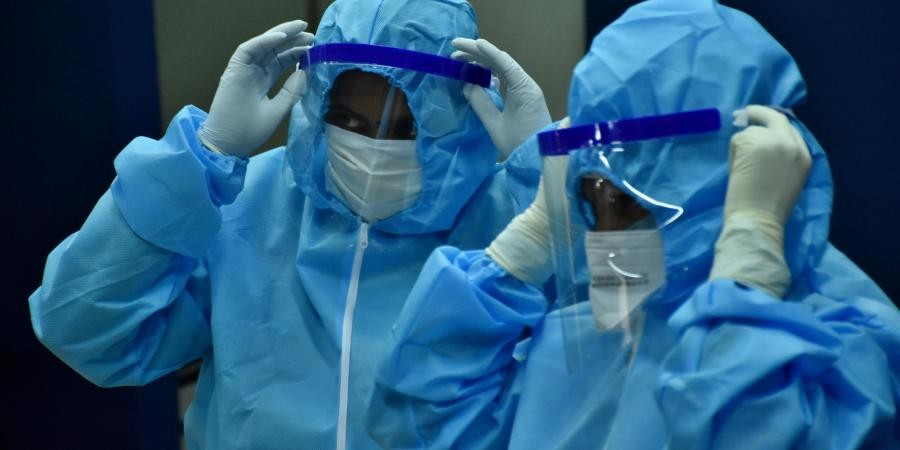Coverall: (364, 1, 900, 448), (27, 1, 555, 450)
Face_Shield: (527, 108, 728, 379), (289, 41, 497, 224)
Gloves: (710, 102, 819, 310), (198, 16, 314, 160), (446, 30, 554, 167), (485, 154, 562, 299)
with_mask: (580, 188, 668, 336), (323, 108, 421, 224)
